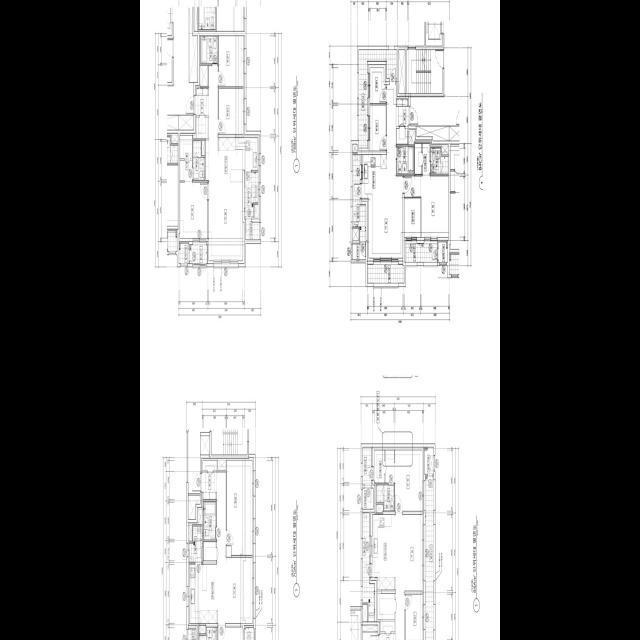background: (140, 0, 500, 640)
space_balconi: (359, 49, 397, 147), (425, 475, 434, 640), (363, 512, 375, 621), (353, 154, 366, 241), (368, 264, 404, 282), (244, 171, 258, 216), (406, 243, 438, 262), (189, 526, 203, 562), (190, 242, 207, 263), (363, 447, 371, 485), (245, 627, 254, 640)
space_bedroom: (404, 175, 448, 236), (227, 460, 252, 555), (395, 450, 422, 511), (180, 182, 207, 238), (219, 35, 243, 86), (219, 88, 243, 134), (406, 594, 422, 640), (370, 104, 386, 150), (370, 67, 386, 103), (218, 627, 243, 640)
space_dressroom: (374, 450, 394, 482), (180, 135, 192, 180), (415, 143, 430, 174)
space_front: (201, 460, 217, 499), (194, 87, 209, 115), (396, 98, 408, 126), (379, 633, 396, 640)
space_kitchen: (372, 514, 395, 589), (190, 563, 217, 623), (218, 137, 258, 170), (361, 154, 387, 198)
space_living_room: (206, 65, 243, 260), (369, 84, 403, 257), (217, 472, 252, 623), (395, 514, 422, 640)
space_multipurpose_space: (404, 198, 420, 237)
space_other: (417, 126, 449, 140), (378, 593, 395, 619), (188, 495, 200, 519), (399, 49, 405, 93), (246, 219, 259, 239), (196, 117, 208, 138), (203, 541, 216, 560), (363, 488, 373, 509), (179, 115, 194, 129), (353, 244, 366, 259), (200, 435, 210, 454), (397, 128, 408, 143), (200, 65, 208, 85), (380, 621, 395, 631), (188, 628, 196, 640), (363, 625, 378, 631), (409, 130, 415, 144), (218, 460, 226, 470), (198, 509, 203, 524), (353, 228, 359, 240), (363, 604, 367, 621), (376, 504, 383, 512), (199, 625, 206, 633), (254, 204, 258, 217), (189, 524, 192, 541), (442, 146, 448, 154), (202, 140, 205, 155), (353, 144, 357, 152)
space_outdoor_room: (424, 447, 434, 473), (438, 241, 448, 262), (179, 242, 189, 263)
space_staircase: (407, 49, 442, 92)
space_toilet: (203, 501, 216, 539), (397, 145, 414, 174), (376, 484, 394, 511), (193, 140, 205, 180), (201, 35, 218, 63), (431, 147, 448, 174), (199, 627, 217, 640)
